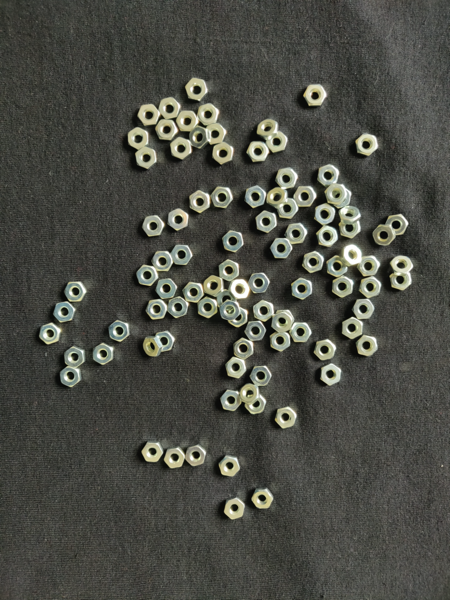nut: (185, 78, 209, 102), (303, 84, 327, 107), (356, 133, 379, 157), (275, 167, 299, 190), (373, 224, 397, 247), (138, 104, 161, 127), (142, 215, 165, 238), (317, 164, 340, 187), (325, 183, 348, 206), (302, 251, 325, 274), (53, 302, 77, 324), (274, 408, 298, 430), (159, 97, 181, 120), (197, 104, 220, 126), (135, 147, 157, 170), (212, 142, 234, 165), (316, 226, 339, 248), (386, 214, 409, 236), (285, 223, 308, 245), (136, 265, 159, 287), (327, 255, 349, 278), (359, 277, 382, 299), (291, 278, 313, 301), (109, 320, 131, 343), (203, 275, 225, 298), (219, 300, 242, 322), (314, 339, 337, 361), (141, 441, 164, 463), (185, 444, 207, 467), (176, 110, 200, 131), (171, 137, 192, 161), (246, 141, 270, 162), (293, 186, 317, 207), (357, 256, 381, 277), (390, 255, 414, 276), (266, 131, 288, 153), (211, 186, 233, 208), (245, 186, 267, 208), (267, 187, 289, 209), (341, 245, 363, 267), (357, 335, 379, 357), (167, 296, 189, 318), (320, 364, 342, 386), (225, 357, 247, 379), (220, 390, 242, 412), (190, 127, 211, 150), (223, 230, 244, 253), (342, 317, 363, 340), (219, 259, 240, 282), (248, 273, 271, 294), (93, 343, 114, 366), (65, 346, 86, 369), (272, 311, 293, 334), (219, 455, 240, 478), (224, 497, 245, 520), (190, 190, 210, 214), (128, 128, 149, 150), (257, 119, 279, 140), (168, 209, 189, 231), (277, 198, 299, 219), (315, 203, 336, 225), (256, 211, 277, 233), (271, 238, 293, 259), (171, 245, 193, 266), (152, 251, 174, 272), (332, 276, 353, 298), (353, 299, 375, 320), (39, 323, 61, 344), (146, 299, 168, 320), (183, 282, 205, 303), (197, 297, 218, 319), (164, 447, 185, 469), (252, 488, 274, 509), (339, 205, 362, 225), (155, 279, 178, 299), (61, 366, 82, 387), (229, 279, 250, 300), (156, 120, 178, 140), (65, 282, 87, 302), (217, 289, 237, 311), (245, 321, 267, 341), (290, 323, 312, 343), (234, 338, 254, 360), (251, 366, 273, 386), (239, 384, 259, 406), (245, 395, 267, 415), (332, 188, 352, 209), (143, 336, 163, 357), (155, 331, 175, 352), (228, 307, 248, 328), (254, 301, 274, 322), (390, 273, 413, 291), (206, 124, 226, 144), (271, 332, 291, 352), (339, 221, 361, 239), (276, 311, 295, 326)
